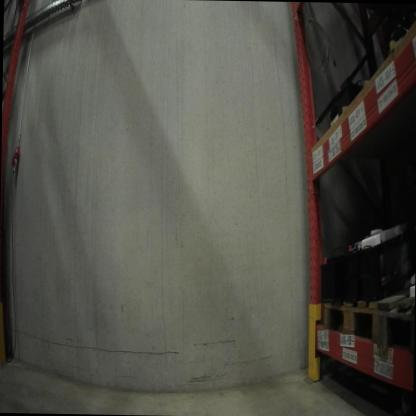pallet: (318, 287, 390, 355), (378, 280, 413, 365)
